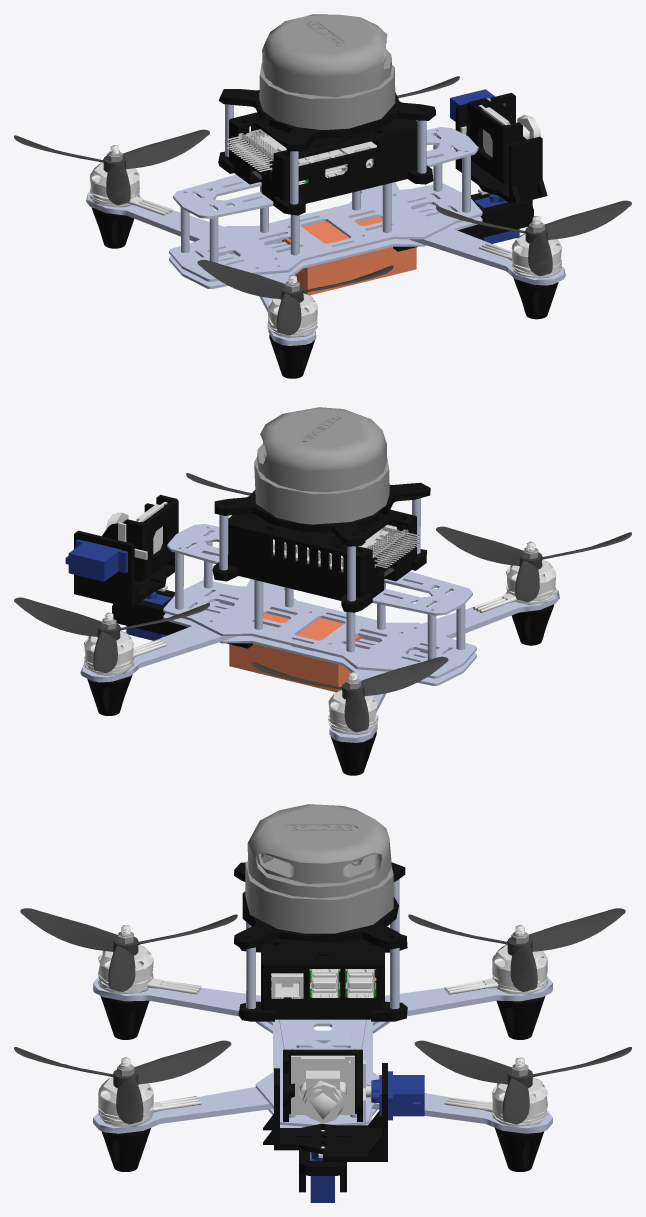
Rendered from shadow_mk1.glb.
3 views of the same model, one above another, from view 1: azimuth 30°, elevation 25°; view 2: azimuth 150°, elevation 25°; view 3: azimuth 270°, elevation 25° (orthographic). The views are drawn at different scales.
Visible parts, largest first — view 1: BottomPlate:1, LIDAR_1:1, Autopilot_Navio2_case_top:1, LIDAR_2:1, TopPlate:1, battery_placeholder, Gimbal_Upright_Pan_Yoke:1, LiDAR_Deck:1, Autopilot_Navio2_case_bottom:1, 5045 CCW:1, 5045 CW:2, 5045 CCW:2 (+17 smaller); view 2: BottomPlate:1, LIDAR_1:1, Autopilot_Navio2_case_top:1, LIDAR_2:1, TopPlate:1, battery_placeholder, Gimbal_Upright_Pan_Yoke:1, Autopilot_Navio2_case_bottom:1, LiDAR_Deck:1, 5045 CW:2, 5045 CCW:2, 5045 CW:1 (+18 smaller); view 3: LIDAR_1:1, LIDAR_2:1, Gimbal_Upright_Pan_Yoke:1, Autopilot_Navio2_case_top:1, PiCam_WideAngle:1, 5045 CW:1, 5045 CW:2, 5045 CCW:1, 5045 CCW:2, LiDAR_Deck:1, BottomPlate:1, Arm:2 (+24 smaller).
Boxes of the visible parts, bbox=[...] form: BottomPlate:1: bbox=[169, 183, 482, 281]; LIDAR_1:1: bbox=[262, 14, 391, 96]; Autopilot_Navio2_case_top:1: bbox=[229, 112, 417, 184]; LIDAR_2:1: bbox=[259, 63, 395, 129]; TopPlate:1: bbox=[173, 127, 478, 218]; battery_placeholder: bbox=[276, 212, 416, 295]; Gimbal_Upright_Pan_Yoke:1: bbox=[455, 93, 547, 204]; LiDAR_Deck:1: bbox=[218, 89, 435, 151]; Autopilot_Navio2_case_bottom:1: bbox=[229, 138, 417, 200]; 5045 CCW:1: bbox=[436, 200, 631, 276]; 5045 CW:2: bbox=[197, 260, 393, 335]; 5045 CCW:2: bbox=[14, 129, 209, 205]; BottomPlate:1: bbox=[163, 580, 476, 678]; LIDAR_1:1: bbox=[257, 407, 386, 490]; Autopilot_Navio2_case_top:1: bbox=[228, 509, 416, 581]; LIDAR_2:1: bbox=[254, 456, 389, 524]; TopPlate:1: bbox=[167, 524, 472, 615]; battery_placeholder: bbox=[229, 609, 368, 691]; Gimbal_Upright_Pan_Yoke:1: bbox=[74, 503, 174, 608]; Autopilot_Navio2_case_bottom:1: bbox=[228, 535, 416, 597]; LiDAR_Deck:1: bbox=[214, 482, 430, 546]; 5045 CW:2: bbox=[436, 526, 631, 602]; 5045 CCW:2: bbox=[252, 656, 448, 732]; 5045 CW:1: bbox=[14, 597, 209, 672]; LIDAR_1:1: bbox=[247, 804, 391, 896]; LIDAR_2:1: bbox=[245, 861, 393, 933]; Gimbal_Upright_Pan_Yoke:1: bbox=[263, 1063, 387, 1161]; Autopilot_Navio2_case_top:1: bbox=[261, 939, 384, 998]; PiCam_WideAngle:1: bbox=[291, 1055, 354, 1123]; 5045 CW:1: bbox=[414, 1040, 631, 1124]; 5045 CW:2: bbox=[20, 908, 237, 991]; 5045 CCW:1: bbox=[14, 1040, 231, 1124]; 5045 CCW:2: bbox=[408, 908, 625, 991]; LiDAR_Deck:1: bbox=[234, 862, 405, 949]; BottomPlate:1: bbox=[255, 1019, 379, 1126]; Arm:2: bbox=[93, 1087, 273, 1133].
Bounding box in the file's own units: 255 × 151 × 310.
